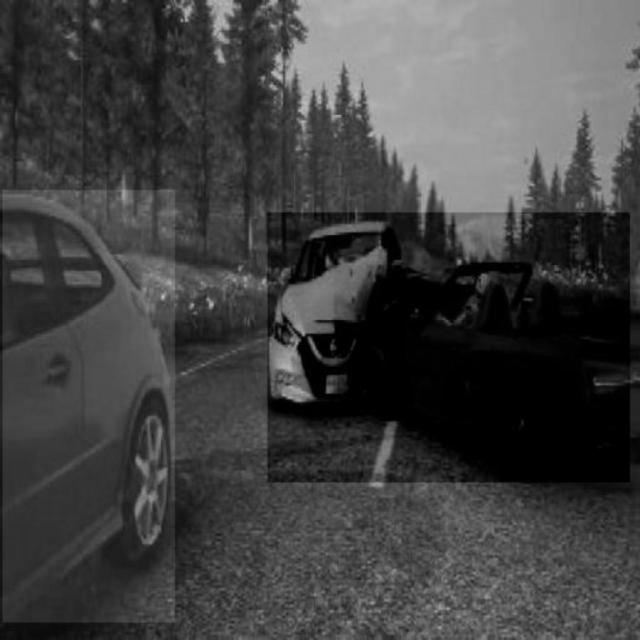accident: (268, 213, 630, 483)
vehicle: (2, 190, 176, 622)
